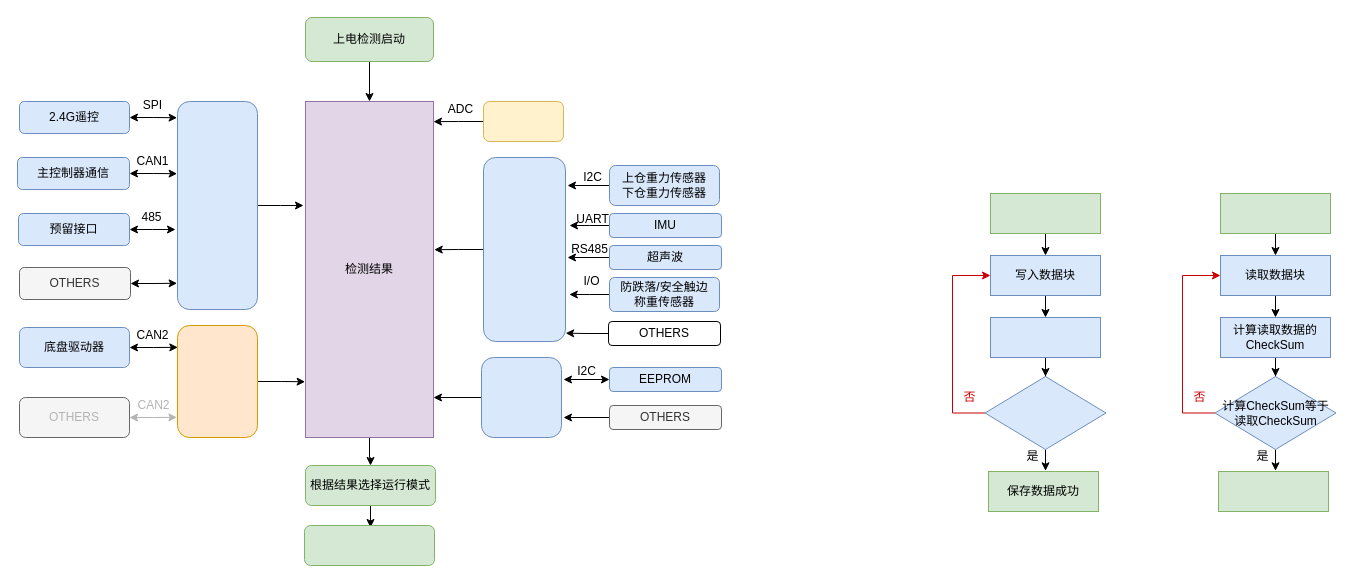
This 1354x583 diagram has some shape labels left out. Each missing label, with the centre of its shape:
"供电检测" goes at (x=523, y=121).
"保存数据" goes at (x=1045, y=213).
"外接传感器" goes at (x=524, y=249).
"外部通信检测" goes at (x=217, y=205).
"板上硬件" goes at (x=521, y=397).
"检测结果上传" goes at (x=369, y=545).
"电机驱动" goes at (x=217, y=381).
"读取之前写入的数据" goes at (x=1045, y=337).
"读取数据" goes at (x=1275, y=213).
"读取数据和写入 数据一致" goes at (x=1045, y=413).
"读取数据成功" goes at (x=1273, y=491).
